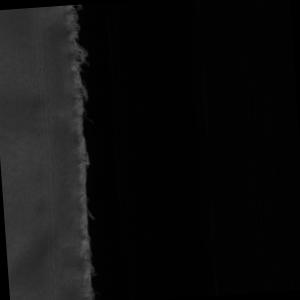Damage: (47, 5, 113, 300)
